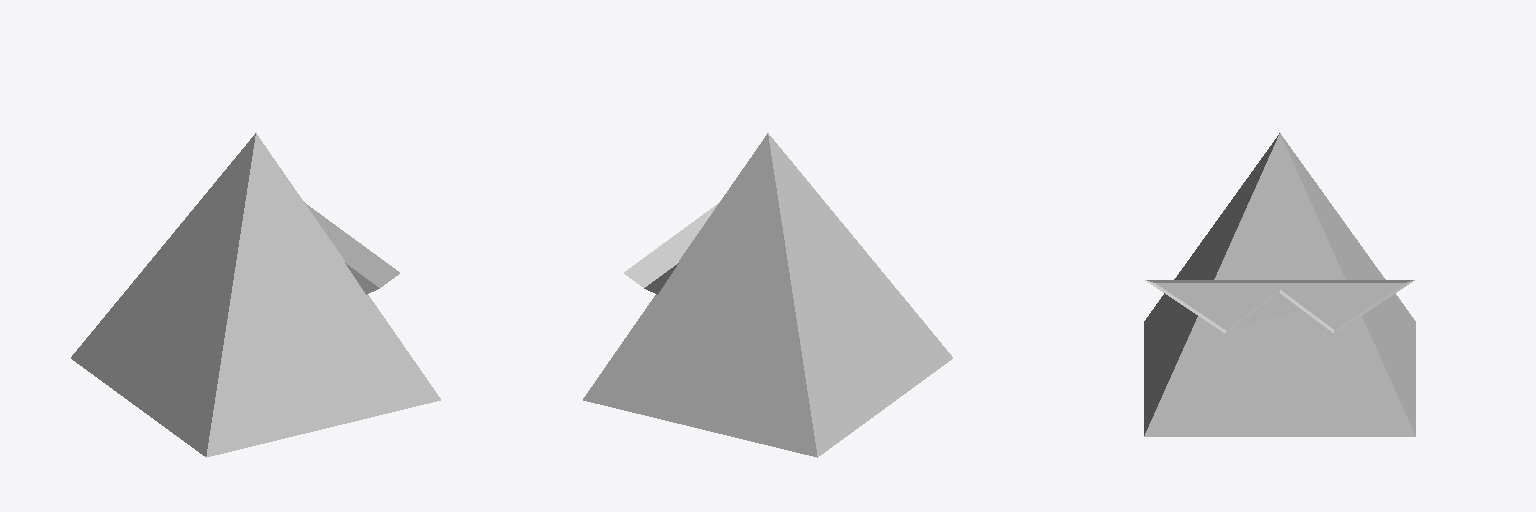
The picture shows the model from 3 angles: view 1: azimuth 30°, elevation 25°; view 2: azimuth 150°, elevation 25°; view 3: azimuth 270°, elevation 25°; orthographic projection.
Visible parts, largest first — view 1: Pyrimid_Cube, Sunglasses_Cube.002; view 2: Pyrimid_Cube, Sunglasses_Cube.002; view 3: Pyrimid_Cube, Sunglasses_Cube.002.
Part boxes in pixels (x1,y1,x2,y2): Pyrimid_Cube: (71,133,440,457); Sunglasses_Cube.002: (304,202,399,294); Pyrimid_Cube: (583,133,952,457); Sunglasses_Cube.002: (624,202,719,294); Pyrimid_Cube: (1144,133,1415,436); Sunglasses_Cube.002: (1145,280,1414,333).
Size of the model in its own units: 2 by 2 by 2.